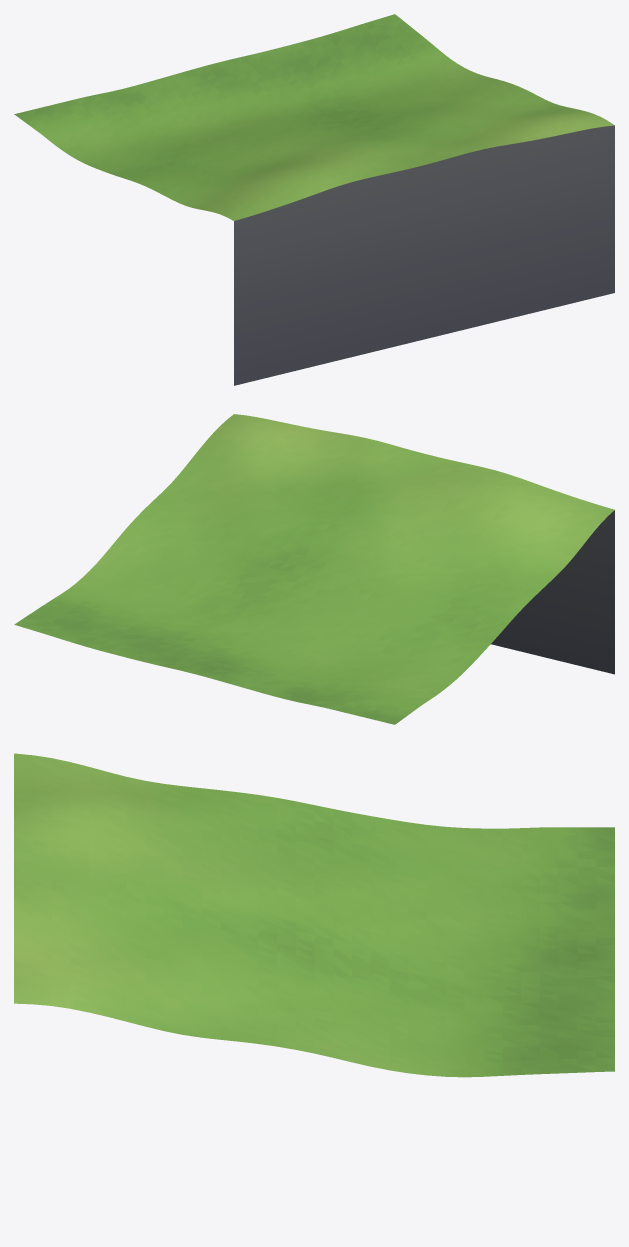
Rendered from terrain_r0_c3.glb.
3 renders of one model, top to bottom at view 1: azimuth 30°, elevation 25°; view 2: azimuth 150°, elevation 25°; view 3: azimuth 270°, elevation 25°, orthographic. The views are drawn at different scales.
Parts seen in each view (by area): view 1: terrain_r0_c3; view 2: terrain_r0_c3; view 3: terrain_r0_c3.
Boxes of the visible parts, x1,y1,x2,y2 form: terrain_r0_c3: (14,14,614,385); terrain_r0_c3: (14,414,614,724); terrain_r0_c3: (14,753,614,1077).
Bounding box in the file's own units: 128 × 56.44 × 128.
1 material, 1 textured.
